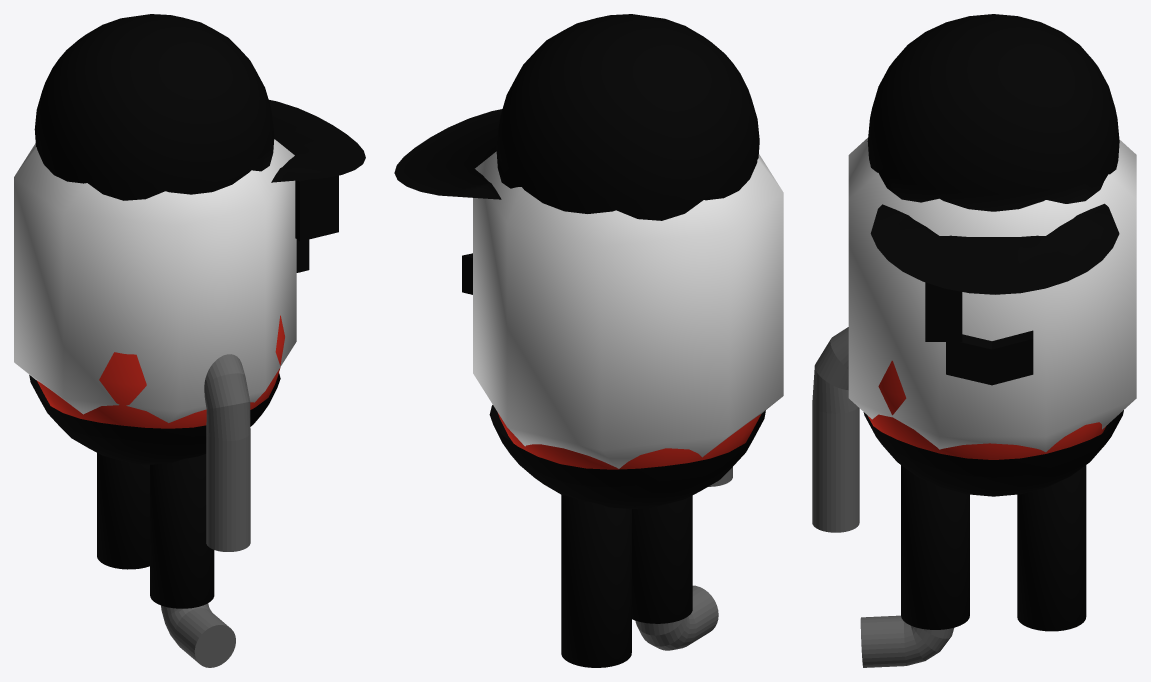
Rendered from robot.glb.
3 renders of one model, left to right at view 1: azimuth 30°, elevation 25°; view 2: azimuth 150°, elevation 25°; view 3: azimuth 270°, elevation 25°, orthographic. The views are drawn at different scales.
Parts seen in each view (by area): view 1: cuerpo, GORRA, Pantalon 1, BRAZOS, ROPA TOP, PARTES INFERIORES, OJOS; view 2: cuerpo, GORRA, Pantalon 1, ROPA TOP, PARTES INFERIORES; view 3: GORRA, cuerpo, Pantalon 1, BRAZOS, ROPA TOP, BOCA, PARTES INFERIORES, OJOS.
Boxes of the visible parts, x1=… form: cuerpo: x1=14, y1=139, x2=296, y2=422; GORRA: x1=34, y1=14, x2=365, y2=200; Pantalon 1: x1=29, y1=373, x2=280, y2=608; BRAZOS: x1=204, y1=354, x2=250, y2=551; ROPA TOP: x1=37, y1=315, x2=284, y2=428; PARTES INFERIORES: x1=161, y1=603, x2=235, y2=667; OJOS: x1=295, y1=175, x2=338, y2=241; cuerpo: x1=473, y1=151, x2=783, y2=468; GORRA: x1=394, y1=14, x2=759, y2=220; Pantalon 1: x1=489, y1=405, x2=765, y2=667; ROPA TOP: x1=498, y1=413, x2=761, y2=469; PARTES INFERIORES: x1=635, y1=585, x2=718, y2=650; GORRA: x1=867, y1=14, x2=1119, y2=294; cuerpo: x1=848, y1=138, x2=1136, y2=452; Pantalon 1: x1=863, y1=410, x2=1123, y2=631; BRAZOS: x1=812, y1=327, x2=859, y2=532; ROPA TOP: x1=868, y1=360, x2=1106, y2=459; BOCA: x1=946, y1=330, x2=1033, y2=385; PARTES INFERIORES: x1=860, y1=615, x2=953, y2=667; OJOS: x1=925, y1=282, x2=962, y2=341.
Size of the model in its own units: 2.57 by 4.73 by 2.18.
